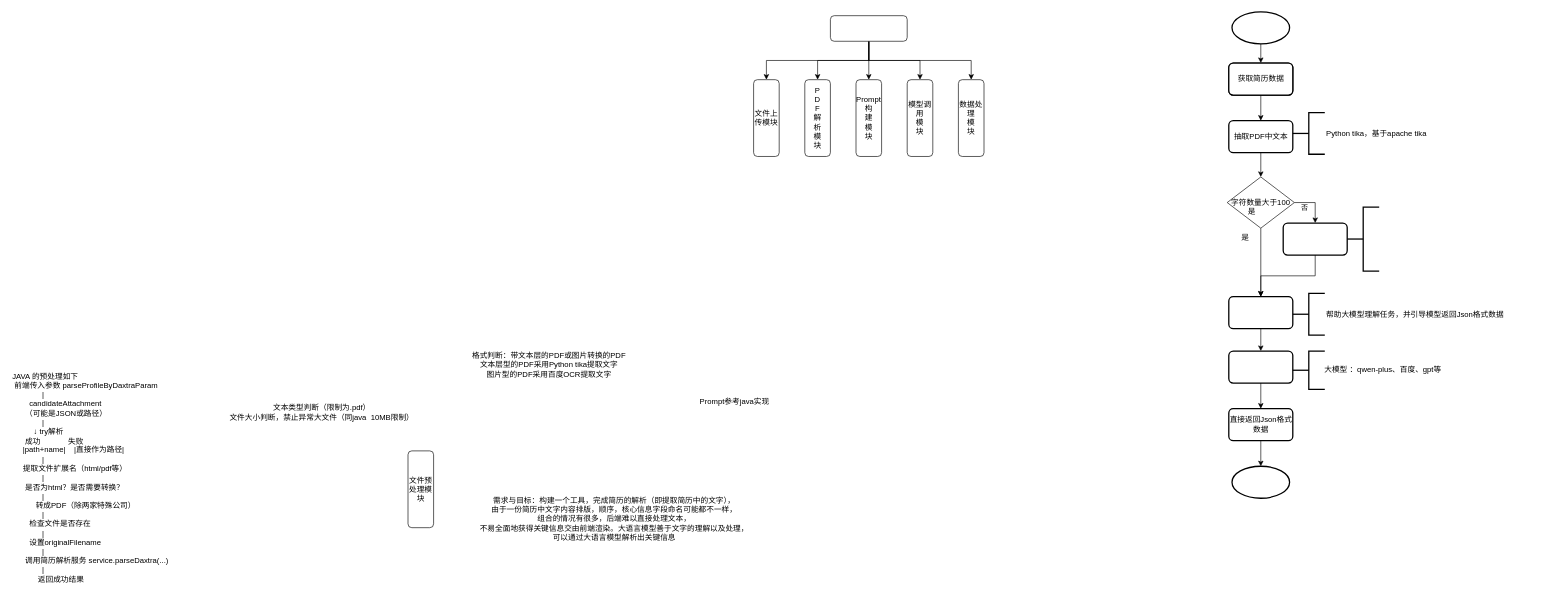
The diagram is 1562 pixels wide and 596 high, and some of its shapes have lost their labels. Each missing label, with the box of its shape:
将文本嵌入Prompt模板: (1228, 296, 1293, 329)
开始: (1231, 11, 1290, 44)
有的文件是由扫描/图片生成，所以PDF不含文本层: (1346, 206, 1380, 271)
简历解析工具: (830, 15, 907, 41)
结束: (1231, 465, 1290, 499)
调用大语言模型: (1228, 350, 1293, 383)
调用百度OCR获取文本: (1282, 222, 1348, 255)
